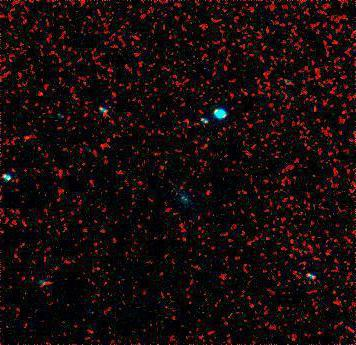star: (29, 78, 59, 108)
